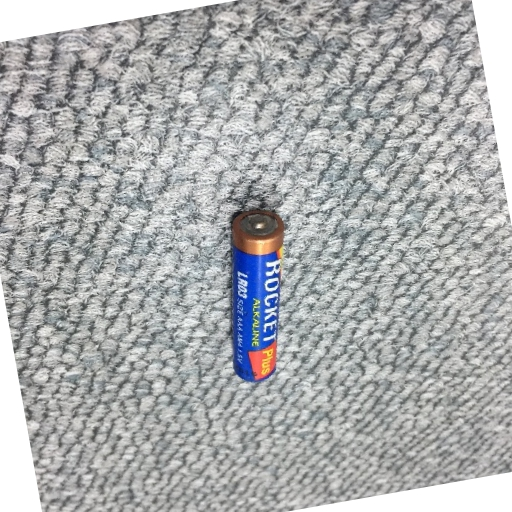Battery_0: (221, 201, 287, 388)
